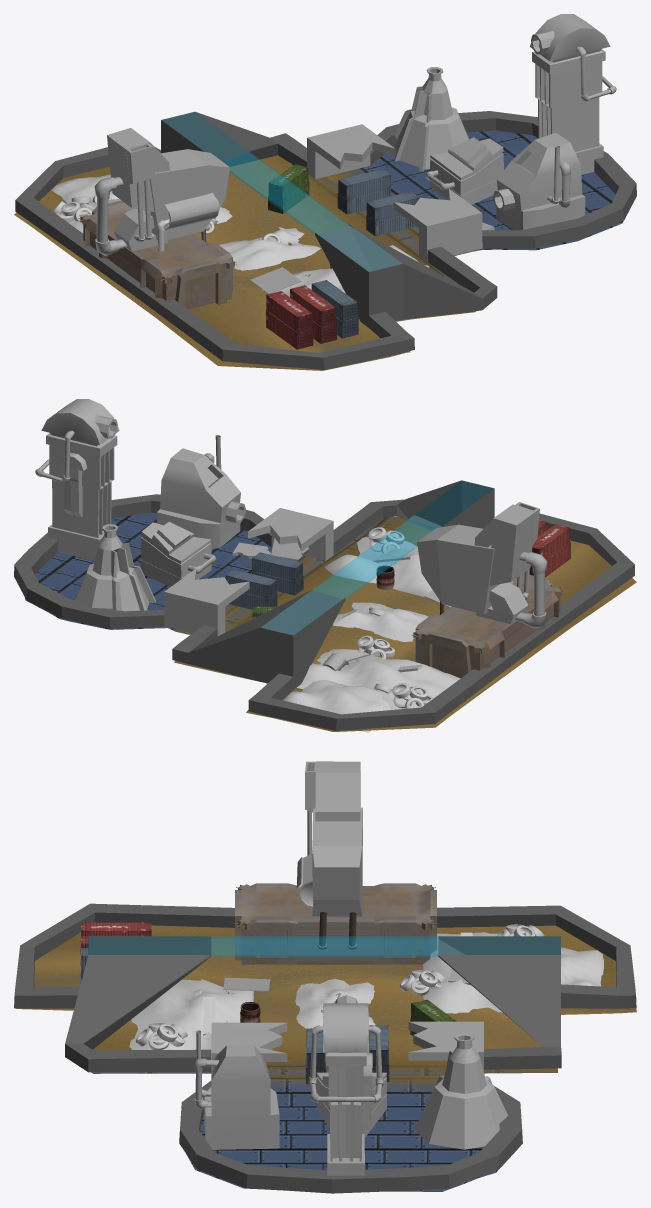
The model's file is NewMap_VerisonUP_June8_2017.fbx.
3 views of the same model, one above another, from view 1: azimuth 30°, elevation 25°; view 2: azimuth 150°, elevation 25°; view 3: azimuth 270°, elevation 25° (orthographic). The views are drawn at different scales.
Visible parts, largest first — view 1: polySurface516; view 2: polySurface516; view 3: polySurface516.
Boxes of the visible parts, x1,y1,x2,y2 form: polySurface516: (14,14,636,370); polySurface516: (14,399,636,732); polySurface516: (14,761,636,1193).
Bounding box in the file's own units: 9837 × 2825 × 9107.
